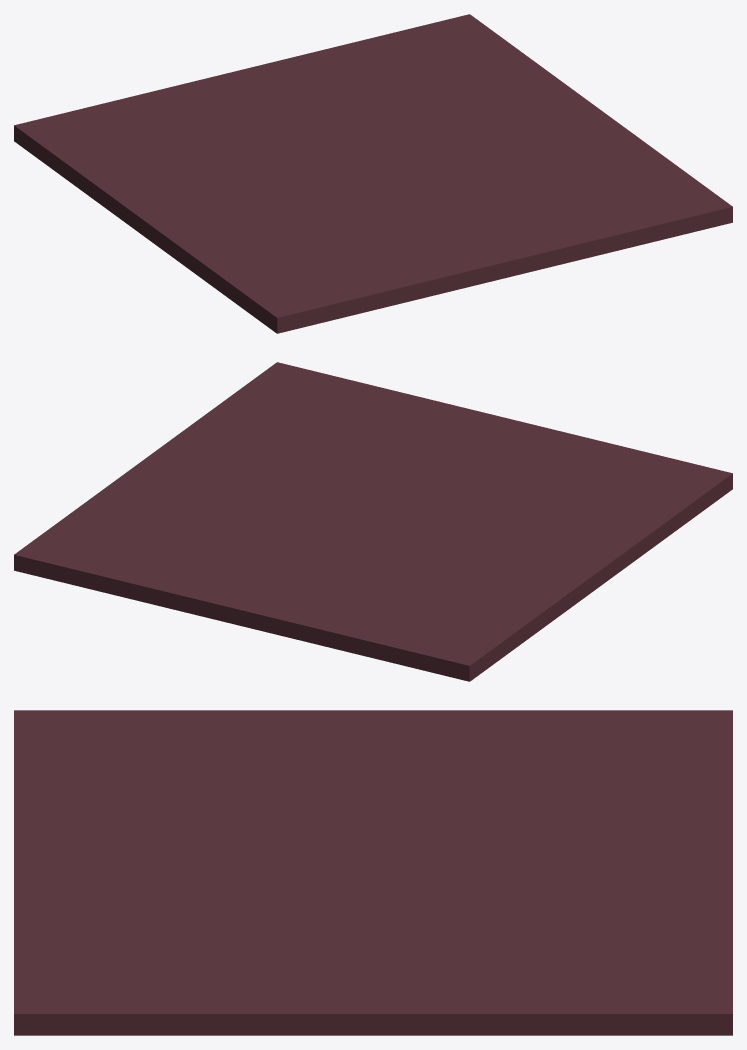
File: SM_Pavement_Mosaic_3x3m_Triangle_Empire.fbx
3 views of the same model, one above another, from view 1: azimuth 30°, elevation 25°; view 2: azimuth 150°, elevation 25°; view 3: azimuth 270°, elevation 25° (orthographic). The views are drawn at different scales.
Visible parts, largest first — view 1: SM_Pavement_Mosaic_3x3m_Triangle_Empire; view 2: SM_Pavement_Mosaic_3x3m_Triangle_Empire; view 3: SM_Pavement_Mosaic_3x3m_Triangle_Empire.
Boxes of the visible parts, x1,y1,x2,y2 form: SM_Pavement_Mosaic_3x3m_Triangle_Empire: (14,14,732,333); SM_Pavement_Mosaic_3x3m_Triangle_Empire: (14,362,732,681); SM_Pavement_Mosaic_3x3m_Triangle_Empire: (14,710,732,1035).
Bounding box in the file's own units: 3 × 0.1001 × 3.
